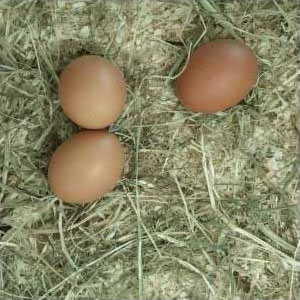egg: (175, 38, 259, 115), (46, 131, 125, 205), (57, 54, 128, 130)
